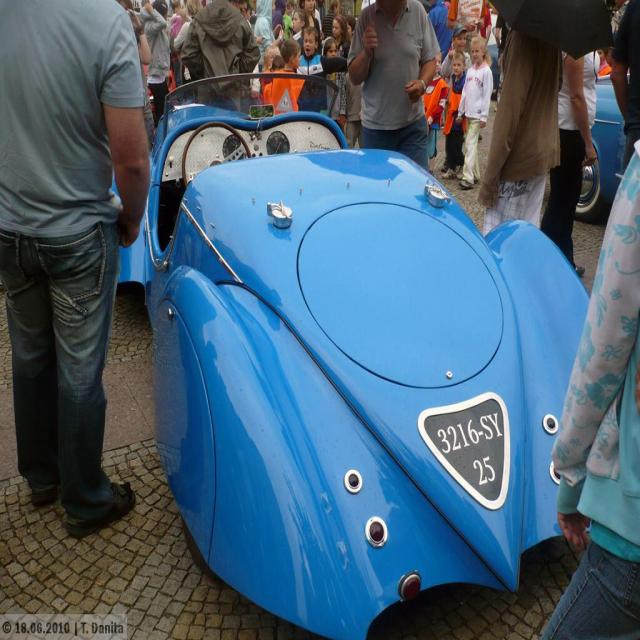car: (114, 60, 564, 619)
